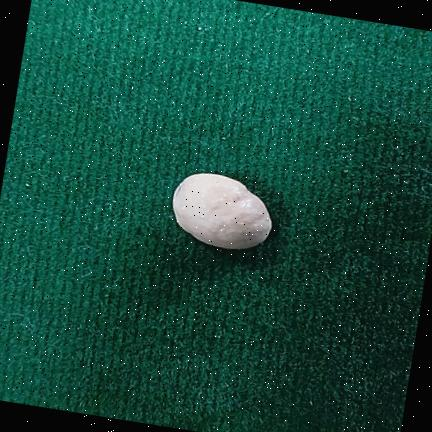husk: (173, 174, 272, 249)
